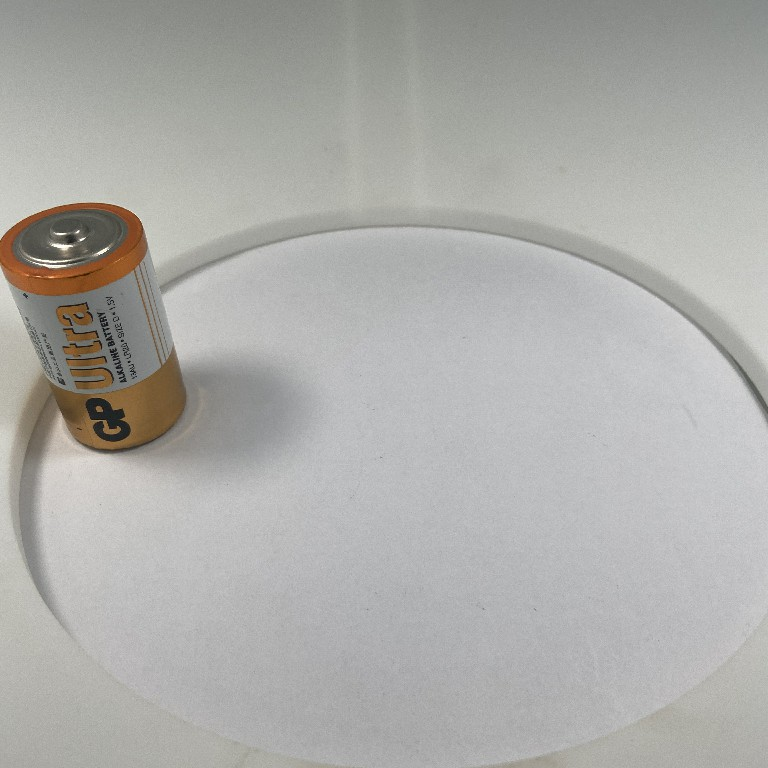charge: (1, 196, 194, 458)
